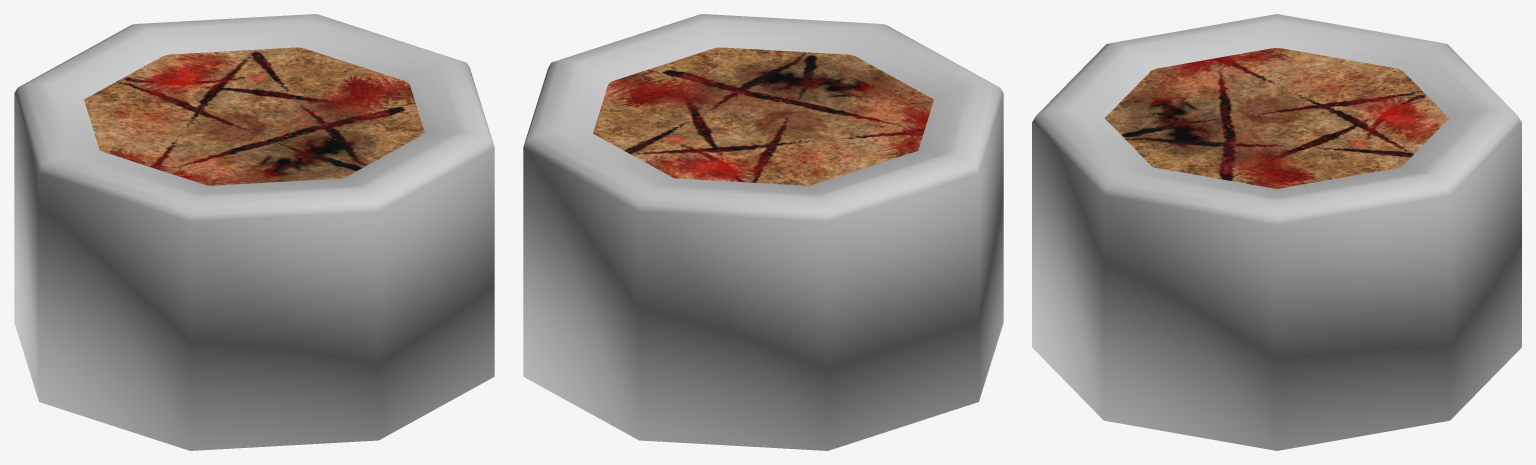
File: sumur1.fbx
3 renders of one model, left to right at view 1: azimuth 30°, elevation 25°; view 2: azimuth 150°, elevation 25°; view 3: azimuth 270°, elevation 25°, orthographic.
Visible parts, largest first — view 1: Cylinder, Circle; view 2: Cylinder, Circle; view 3: Cylinder, Circle.
Part boxes in pixels (left/top/right/bottom): Cylinder: left=14, top=14, right=494, bottom=450; Circle: left=84, top=47, right=424, bottom=185; Cylinder: left=523, top=14, right=1003, bottom=450; Circle: left=593, top=47, right=933, bottom=185; Cylinder: left=1032, top=14, right=1521, bottom=450; Circle: left=1105, top=48, right=1448, bottom=188.
Size of the model in its own units: 1251 by 669 by 1251.
